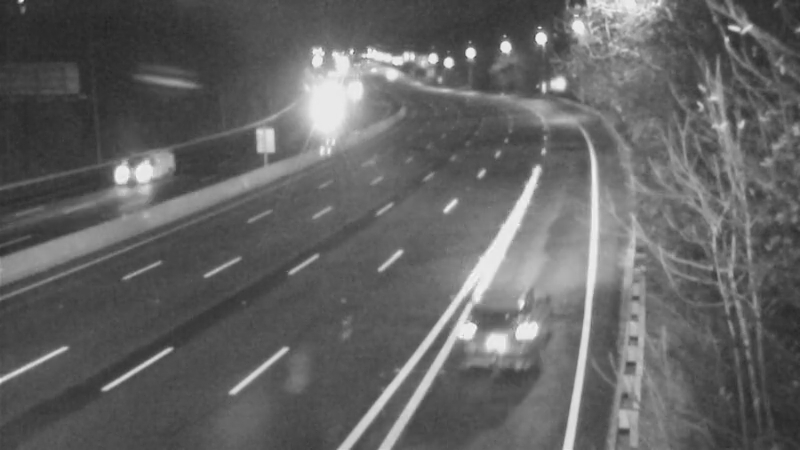vehicle: (444, 275, 554, 385), (93, 129, 173, 209), (362, 48, 412, 98), (299, 95, 349, 145)
